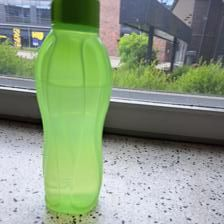bottle: (31, 1, 116, 219)
